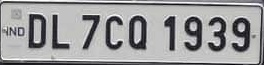character: (126, 13, 148, 52), (80, 11, 101, 51), (103, 14, 125, 51), (26, 11, 47, 49), (51, 12, 71, 51), (183, 14, 203, 52), (207, 15, 227, 53), (231, 15, 251, 53), (163, 13, 177, 52)
